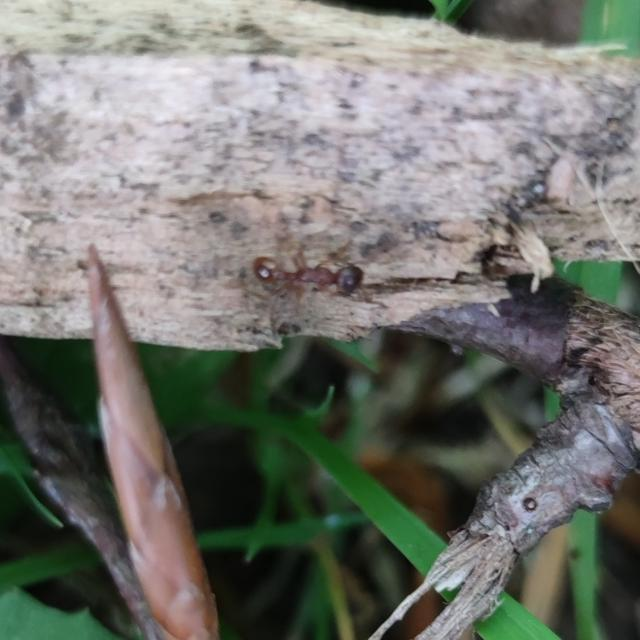Myrmica: (240, 235, 374, 312)
